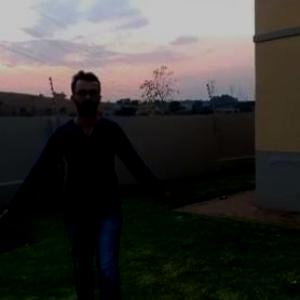land: (1, 57, 183, 299)
